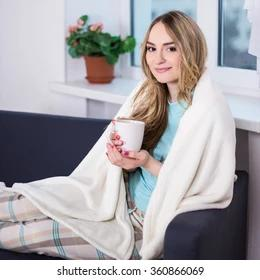blanket: (0, 67, 236, 260)
short sleeve shirt: (127, 87, 194, 212)
trousers: (0, 173, 147, 260)
